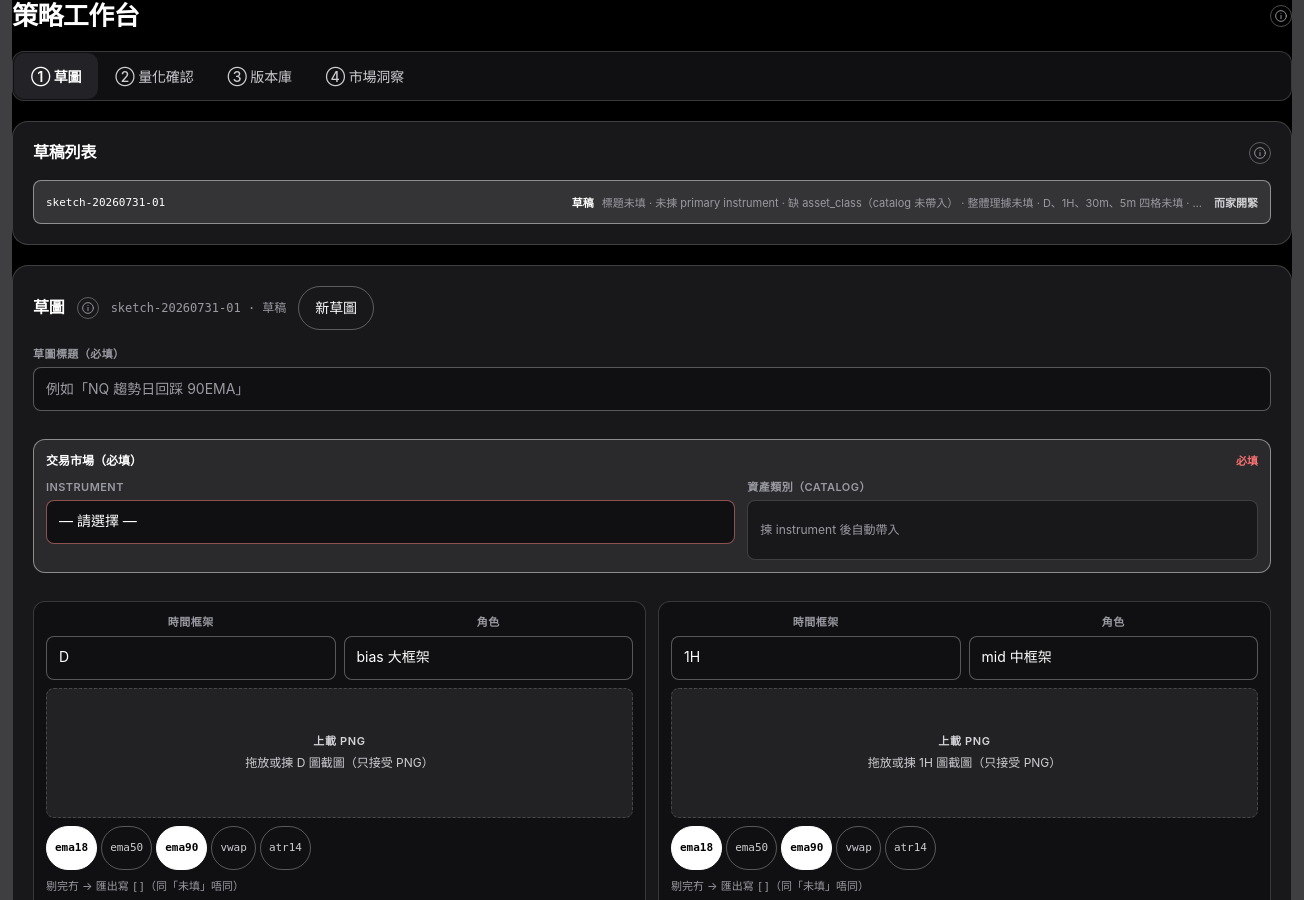
P2 workbench shell + tab ① sketch (WO-010 batch 1 fix) › tab ④ is full insight UI (not deferred placeholder)
The width and height of the screenshot is (1304, 900).
Click the tab "④ 市場洞察" at (365, 76), box [310, 54, 420, 98]
(page scrolled)
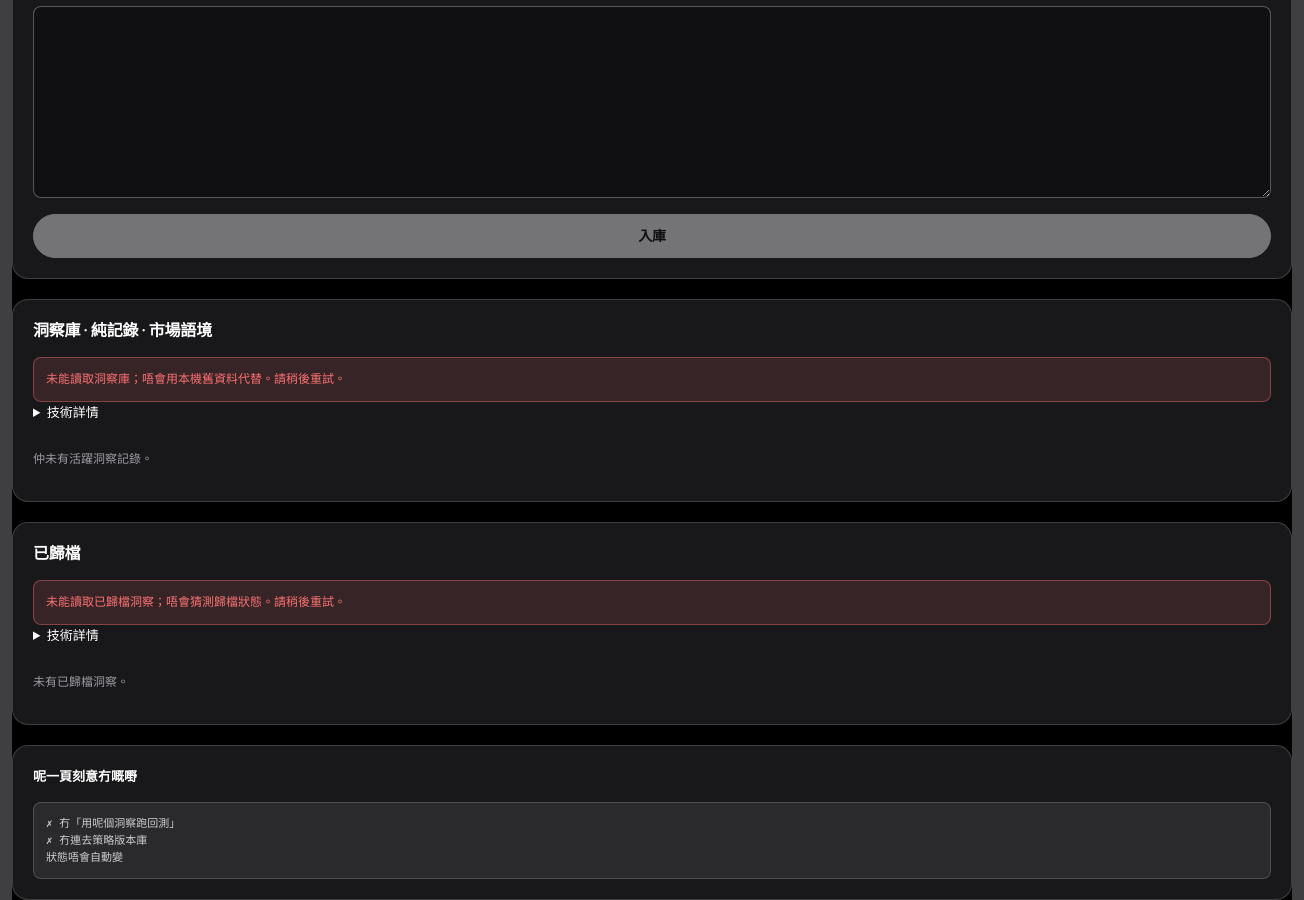
Result: the element "洞察庫" is shown at [12, 299, 1292, 502]
Result: the text "✗ 冇「用呢個洞察跑回測」 ✗ 冇連去策略版本庫 狀態唔會自動變" is shown at [33, 802, 1271, 879]
